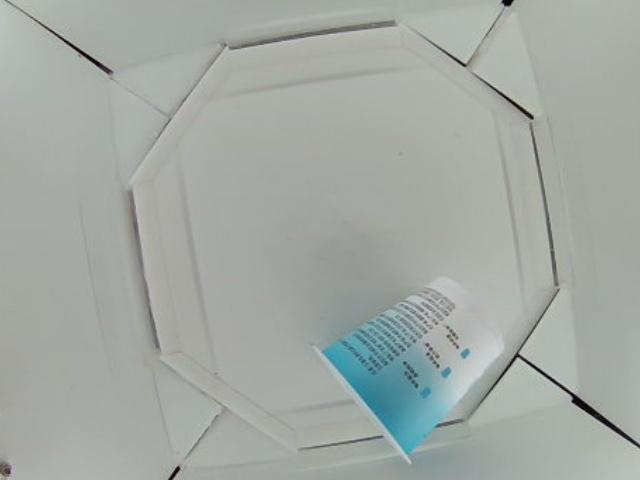Cup: (315, 273, 503, 461)
